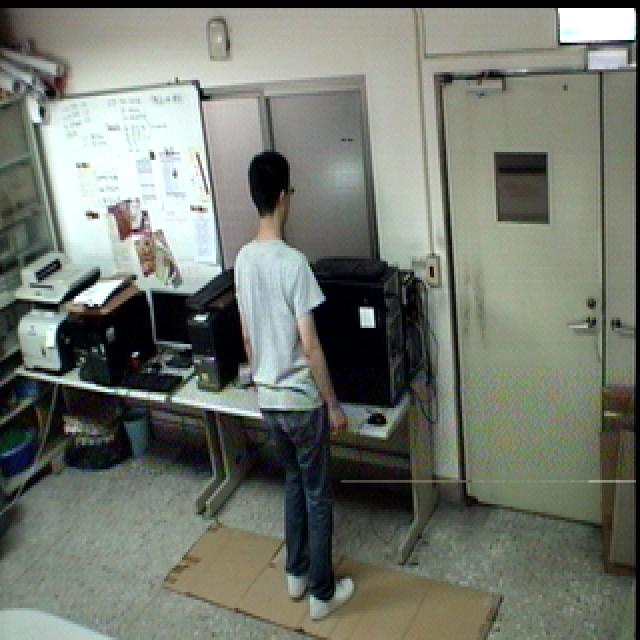stand: (234, 147, 357, 619)
